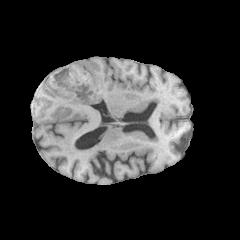glioma: (37, 61, 102, 123)
